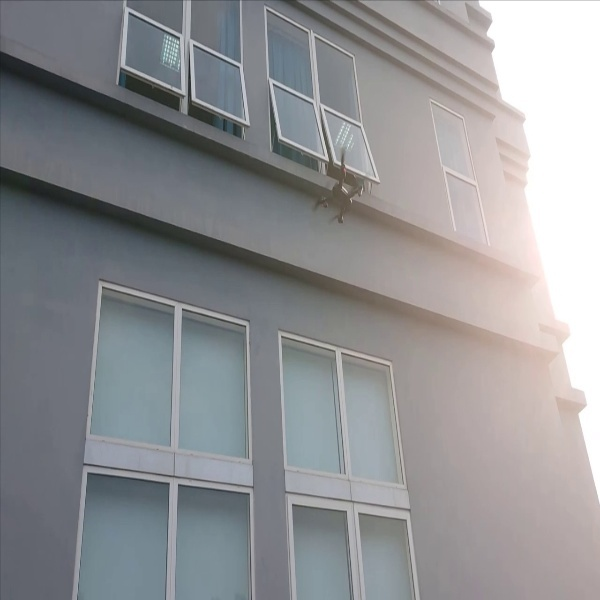drone: (310, 149, 371, 228)
